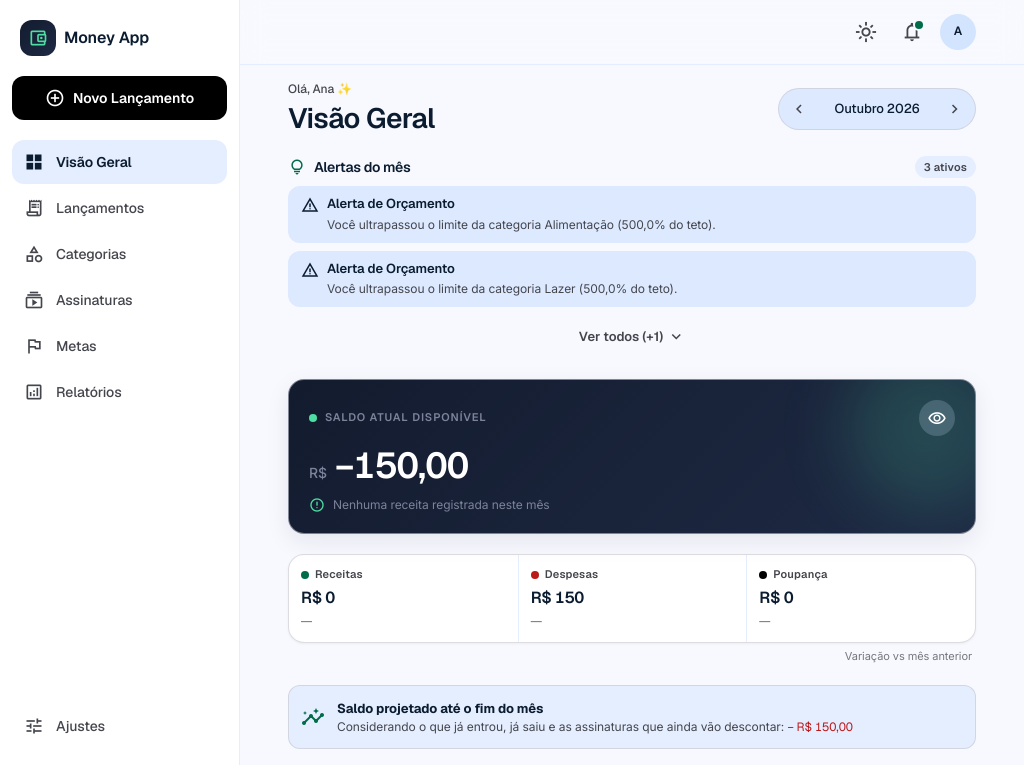
Scenario: Início reorganizado › alertas compactos: no máximo 2 visíveis, o resto em "Ver todos"
This screenshot has width=1024, height=765.
Expected: the text "−150,00" is shown, [335,444,468,488]
Expected: the text "3 ativos" is shown, [915,156,976,178]
Click the button "Ver todos (+1)".
click(632, 337)  # box [567,315,697,359]
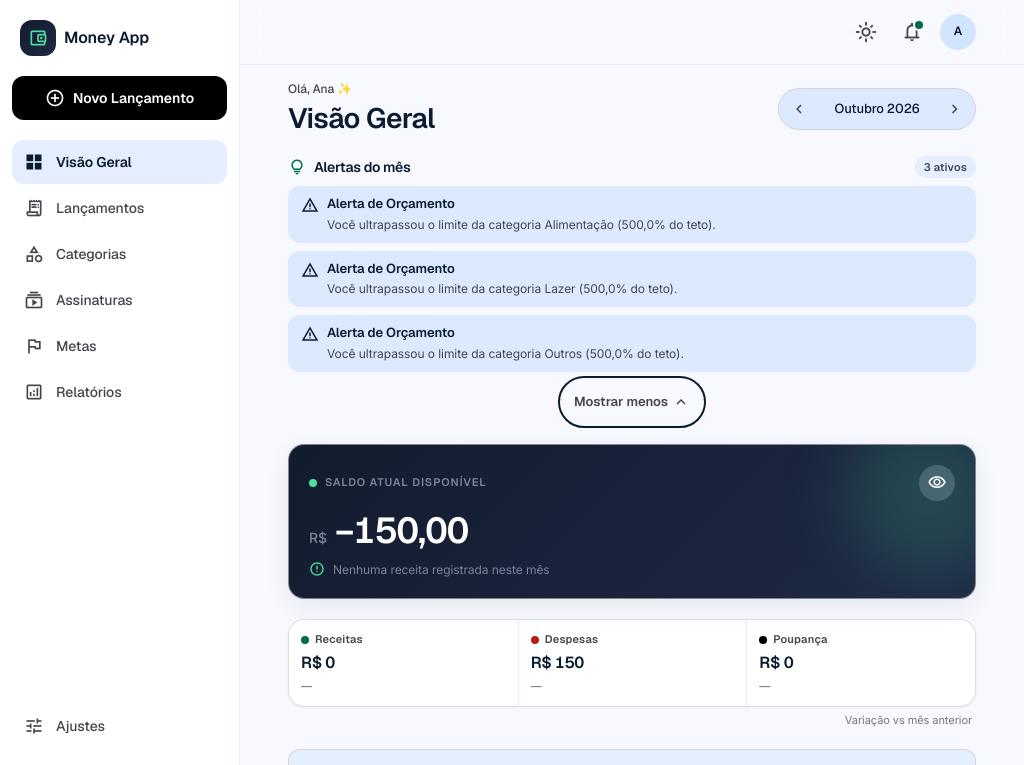
Result: the text "Alerta de Orçamento" is shown 3 times at [327,195,455,214]; [327,260,455,278]; [327,324,455,343]
Result: the button "Mostrar menos" is expanded at [562,380,702,424]
